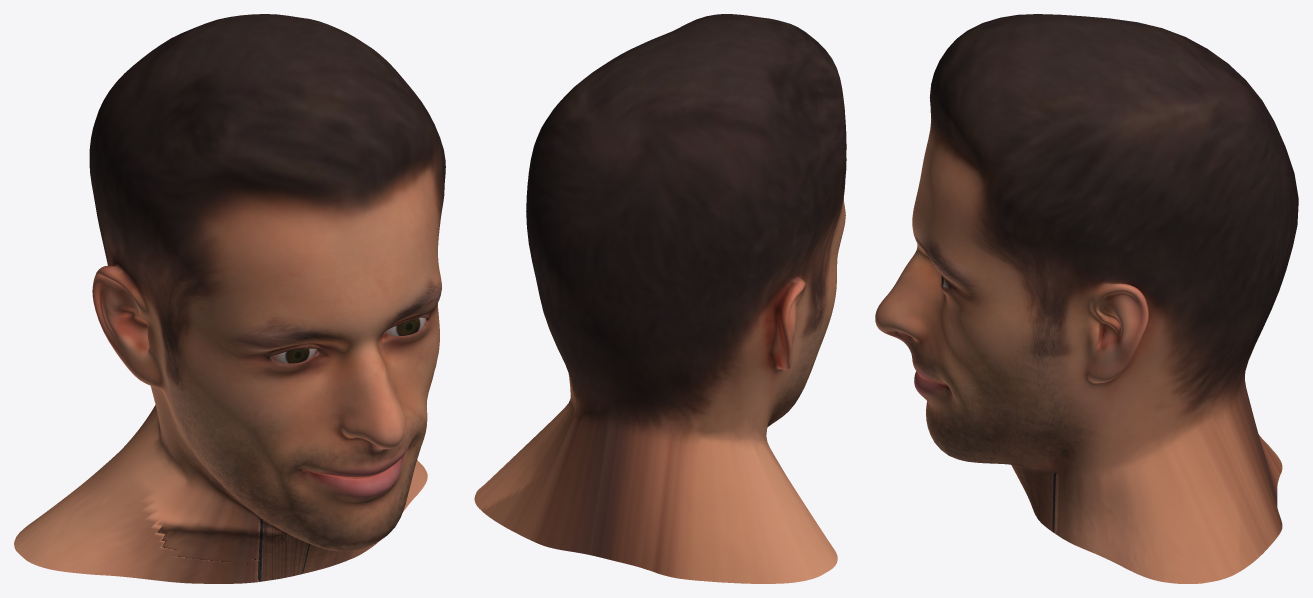
Rendered from scanned-head.glb.
The picture shows the model from 3 angles, left to right: view 1: azimuth 30°, elevation 25°; view 2: azimuth 150°, elevation 25°; view 3: azimuth 270°, elevation 25°; orthographic projection. The views are drawn at different scales.
Visible parts, largest first — view 1: eric scanned head; view 2: eric scanned head; view 3: eric scanned head.
Boxes of the visible parts, left/top/right/bottom form: eric scanned head: left=14, top=14, right=445, bottom=583; eric scanned head: left=474, top=14, right=846, bottom=583; eric scanned head: left=875, top=14, right=1298, bottom=583.
Bounding box in the file's own units: 0.4542 × 0.5647 × 0.4649.
1 material, 1 textured.
